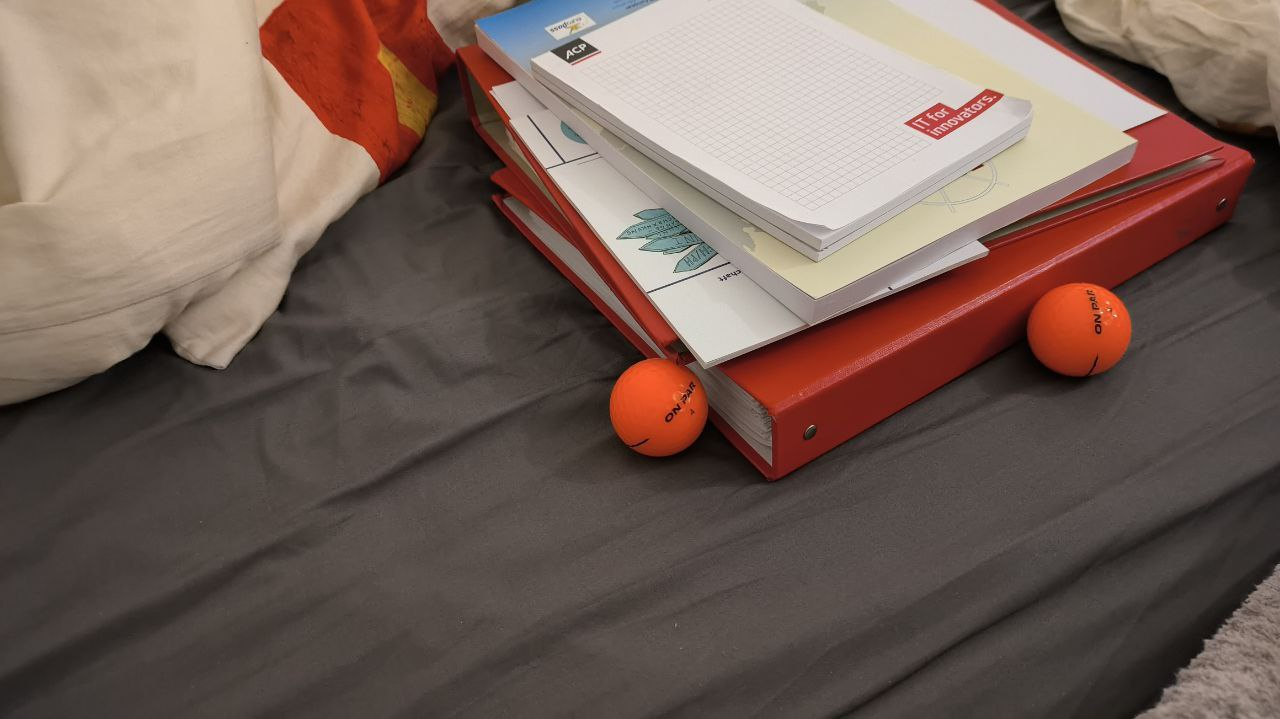orange_ball: (609, 357, 709, 457), (1028, 283, 1131, 377)
